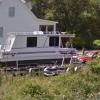Boat: (2, 25, 78, 75)
